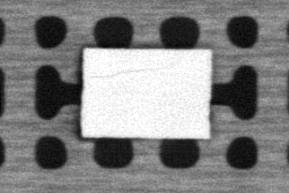DIE_CRACK: (87, 64, 161, 78)
